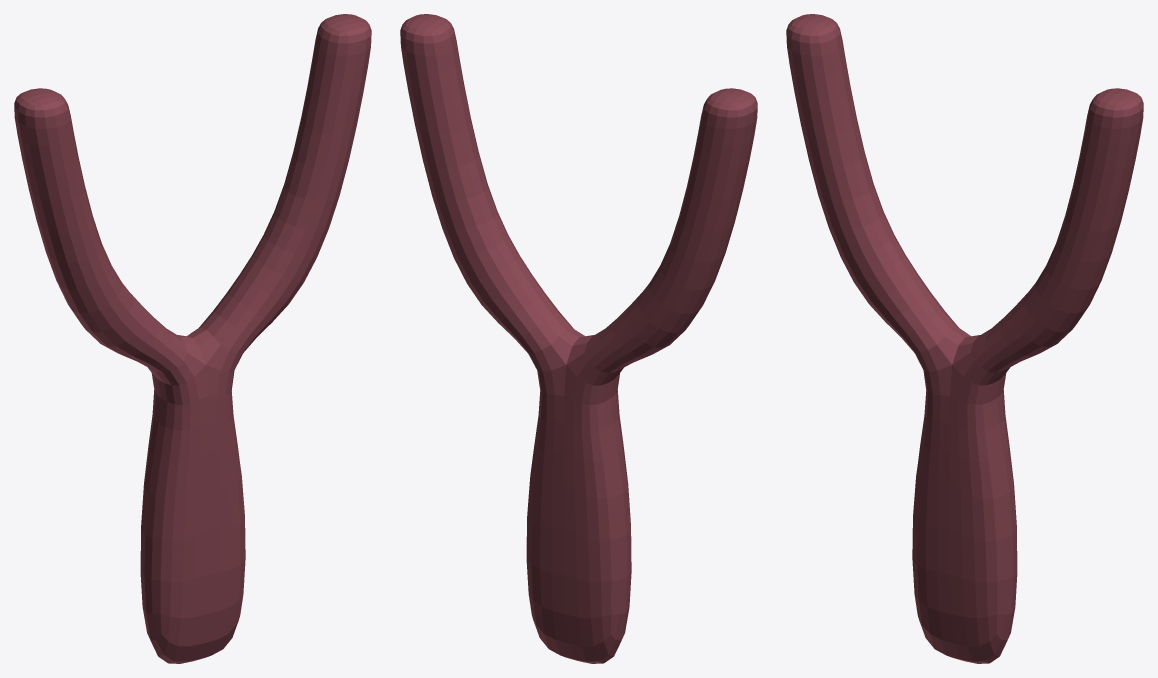
Rendered from Slingshot.fbx.
3 views of the same model, side by side, from view 1: azimuth 30°, elevation 25°; view 2: azimuth 150°, elevation 25°; view 3: azimuth 330°, elevation 25° (orthographic).
Visible parts, largest first — view 1: Куб.002; view 2: Куб.002; view 3: Куб.002.
Part boxes in pixels (left/top/right/bottom): Куб.002: left=14, top=14, right=371, bottom=663; Куб.002: left=400, top=14, right=757, bottom=663; Куб.002: left=786, top=14, right=1143, bottom=663.
Bounding box in the file's own units: 665 × 1098 × 103.
